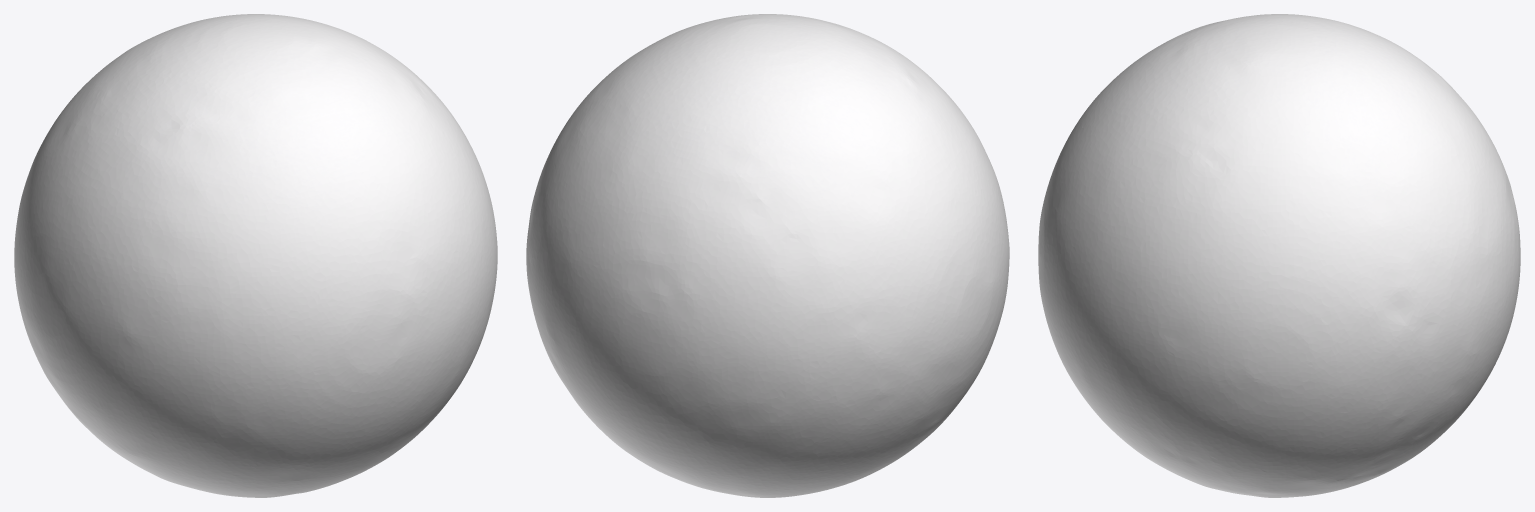
Rendered from globe_sphere_refined.glb.
3 renders of one model, left to right at view 1: azimuth 30°, elevation 25°; view 2: azimuth 150°, elevation 25°; view 3: azimuth 270°, elevation 25°, orthographic.
Size of the model in its own units: 11.96 by 11.96 by 11.95.
1 material, 1 textured.
